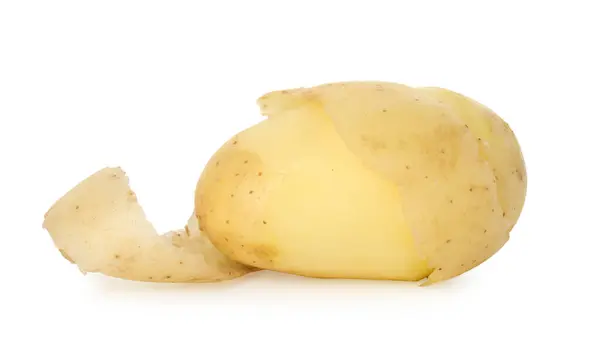potato: (32, 74, 558, 302)
